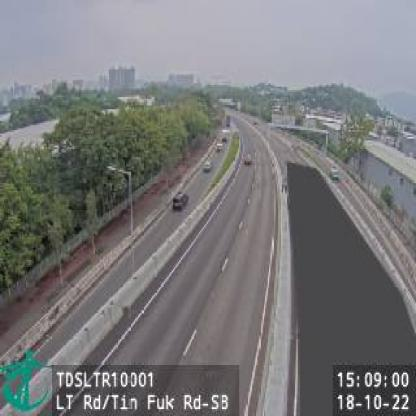Car: (172, 190, 190, 212), (330, 166, 342, 180), (243, 152, 254, 167), (204, 161, 215, 173)
